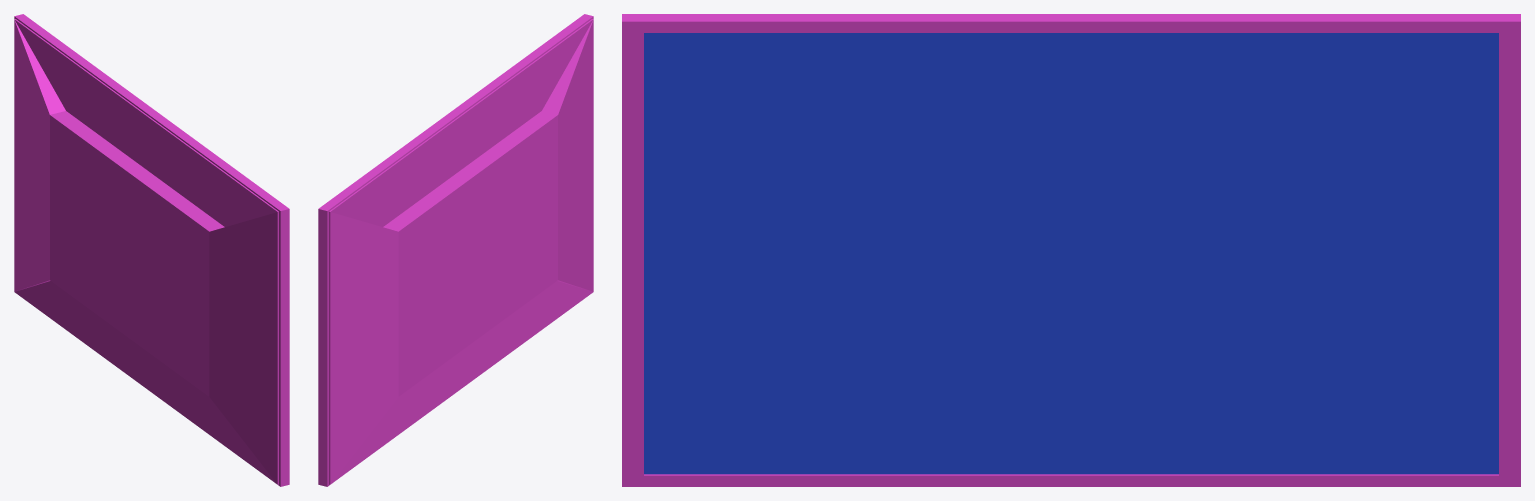
Rendered from PH_TVScreen.fbx.
3 renders of one model, left to right at view 1: azimuth 30°, elevation 25°; view 2: azimuth 150°, elevation 25°; view 3: azimuth 270°, elevation 25°, orthographic. The views are drawn at different scales.
Visible parts, largest first — view 1: Cube; view 2: Cube; view 3: Cube.
Boxes of the visible parts, x1,y1,x2,y2 form: Cube: [14, 14, 289, 486]; Cube: [318, 14, 593, 486]; Cube: [622, 14, 1520, 486].
Bounding box in the file's own units: 5.73 × 56 × 98.
